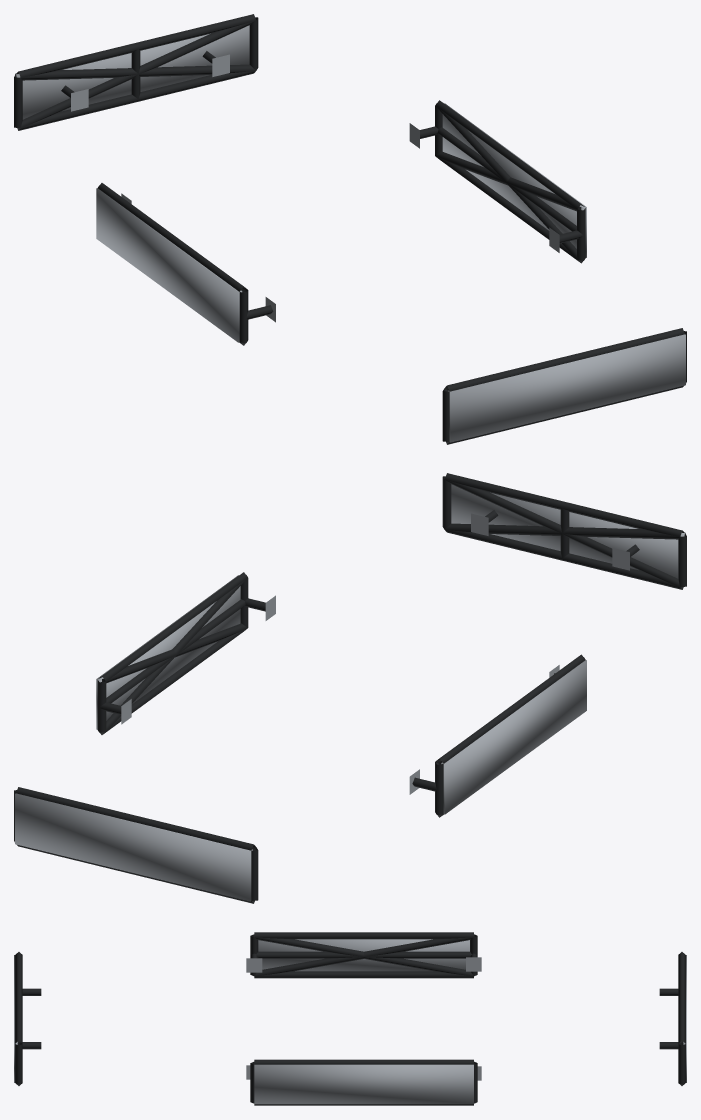
File: ridgeway_mirante_protecao.glb
3 renders of one model, top to bottom at view 1: azimuth 30°, elevation 25°; view 2: azimuth 150°, elevation 25°; view 3: azimuth 270°, elevation 25°, orthographic. The views are drawn at different scales.
Visible parts, largest first — view 1: Protection_front_Level3_Details, Protection_left_Level3_Details, Protection_rear_Level1_Details, Protection_rear_Level3_Details, Protection_rear_Level2_Details, Protection_right_Level1_Details, Protection_right_Level2_Details, Protection_right_Level3_Details, Protection_front_Level1_Details, Protection_left_Level1_Details; view 2: Protection_rear_Level3_Details, Protection_left_Level3_Details, Protection_front_Level1_Details, Protection_front_Level3_Details, Protection_front_Level2_Details, Protection_right_Level1_Details, Protection_right_Level2_Details, Protection_right_Level3_Details, Protection_rear_Level1_Details, Protection_left_Level1_Details; view 3: Protection_right_Level3_Details, Protection_left_Level2_Details, Protection_left_Level1_Details, Protection_left_Level3_Details, Protection_right_Level1_Details, Protection_rear_Level1_Details, Protection_front_Level1_Details.
Part boxes in pixels (bbox=[...]): Protection_front_Level3_Details: bbox=[448, 334, 685, 442]; Protection_left_Level3_Details: bbox=[96, 188, 242, 342]; Protection_rear_Level1_Details: bbox=[14, 14, 258, 130]; Protection_rear_Level3_Details: bbox=[15, 25, 249, 119]; Protection_rear_Level2_Details: bbox=[16, 20, 255, 129]; Protection_right_Level1_Details: bbox=[409, 100, 585, 263]; Protection_right_Level2_Details: bbox=[435, 106, 584, 262]; Protection_right_Level3_Details: bbox=[442, 103, 586, 257]; Protection_front_Level1_Details: bbox=[442, 328, 686, 444]; Protection_left_Level1_Details: bbox=[98, 183, 275, 345]; Protection_rear_Level3_Details: bbox=[15, 793, 252, 901]; Protection_left_Level3_Details: bbox=[441, 660, 586, 814]; Protection_front_Level1_Details: bbox=[442, 473, 686, 589]; Protection_front_Level3_Details: bbox=[451, 484, 685, 578]; Protection_front_Level2_Details: bbox=[445, 479, 684, 588]; Protection_right_Level1_Details: bbox=[97, 572, 275, 734]; Protection_right_Level2_Details: bbox=[98, 578, 247, 734]; Protection_right_Level3_Details: bbox=[96, 575, 240, 729]; Protection_rear_Level1_Details: bbox=[14, 787, 258, 903]; Protection_left_Level1_Details: bbox=[409, 654, 585, 817]; Protection_right_Level3_Details: bbox=[254, 1064, 473, 1104]; Protection_left_Level2_Details: bbox=[254, 935, 474, 976]; Protection_left_Level1_Details: bbox=[246, 932, 481, 978]; Protection_left_Level3_Details: bbox=[258, 939, 469, 971]; Protection_right_Level1_Details: bbox=[246, 1059, 481, 1105]; Protection_rear_Level1_Details: bbox=[659, 952, 685, 1085]; Protection_front_Level1_Details: bbox=[15, 952, 41, 1085].
Size of the model in its own units: 2.17 by 0.354 by 4.69.
1 material, 1 textured.
